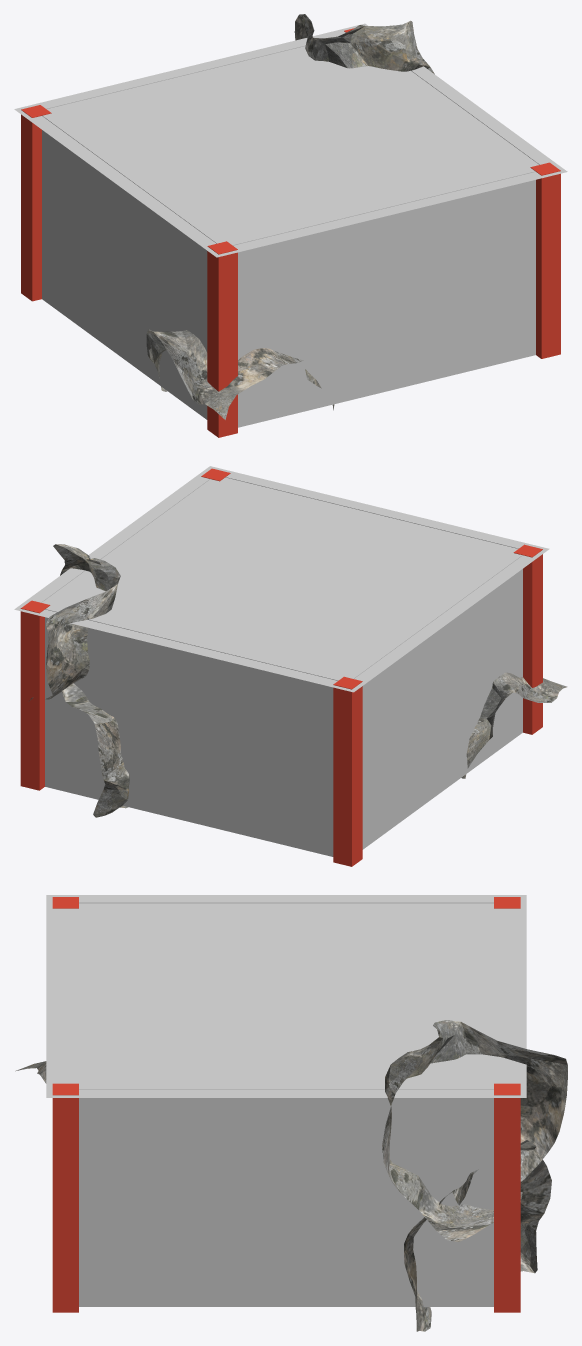
File: sound_room.fbx
3 views of the same model, one above another, from view 1: azimuth 30°, elevation 25°; view 2: azimuth 150°, elevation 25°; view 3: azimuth 270°, elevation 25° (orthographic). The views are drawn at different scales.
Parts seen in each view (by area): view 1: Walls, Icosphere.001, Icosphere.002; view 2: Walls, Icosphere.002, Icosphere, Icosphere.001; view 3: Walls, Icosphere.002, Icosphere.
Part boxes in pixels (x1,y1,x2,y2): Walls: (14, 23, 567, 437); Icosphere.001: (146, 329, 334, 419); Icosphere.002: (294, 14, 434, 74); Walls: (14, 466, 549, 866); Icosphere.002: (28, 544, 120, 701); Icosphere: (46, 665, 129, 817); Icosphere.001: (461, 672, 567, 778); Walls: (46, 895, 526, 1312); Icosphere.002: (382, 1020, 567, 1241); Icosphere: (404, 1140, 551, 1331).
Bounding box in the file's own units: 444 × 259 × 461.
